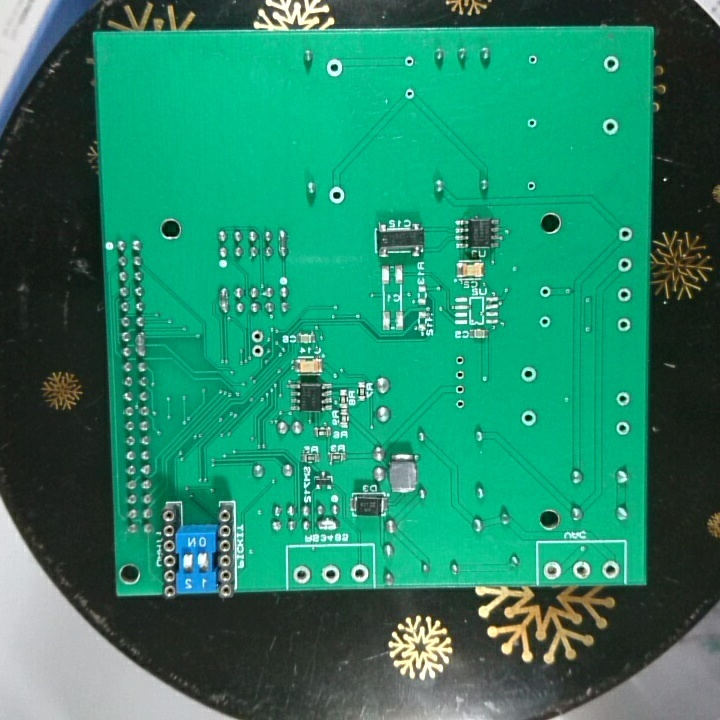F: (319, 563, 343, 585), (542, 558, 565, 580), (571, 558, 594, 580), (600, 116, 622, 138), (291, 564, 314, 585), (348, 562, 371, 583), (602, 53, 622, 77), (326, 185, 348, 206), (519, 363, 540, 385), (325, 57, 345, 80), (615, 223, 634, 245), (600, 560, 621, 579), (519, 409, 541, 427), (614, 315, 633, 335), (614, 419, 634, 438), (616, 255, 635, 274), (614, 286, 634, 304), (614, 390, 632, 407), (248, 342, 265, 359), (537, 314, 554, 330), (248, 327, 265, 343), (525, 52, 541, 68), (523, 178, 539, 194), (537, 284, 553, 300), (402, 86, 417, 102), (401, 54, 417, 69), (452, 367, 468, 382), (525, 115, 539, 132), (454, 395, 466, 414), (452, 354, 467, 368), (453, 382, 467, 396)
P: (131, 328, 148, 359), (275, 226, 290, 260), (217, 284, 231, 318), (314, 516, 341, 533)
